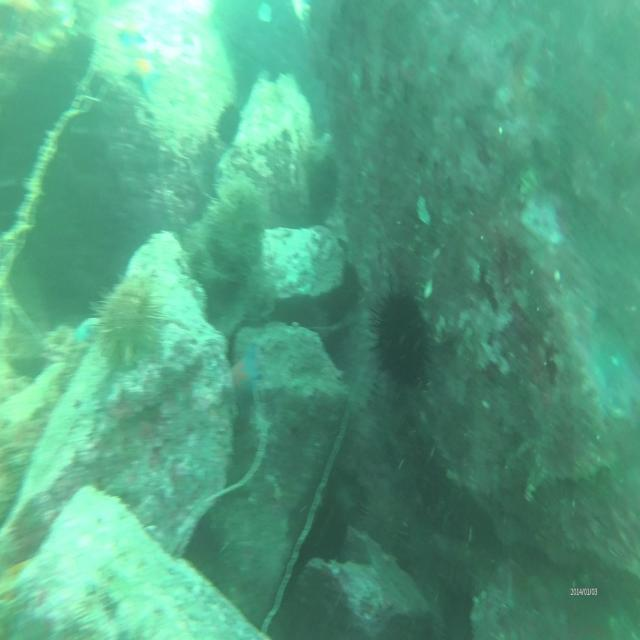echinus: (372, 284, 433, 391), (94, 278, 160, 366), (307, 154, 341, 208), (216, 98, 242, 146)
starfish: (230, 348, 260, 407), (126, 55, 160, 101), (117, 21, 147, 56), (71, 313, 100, 348)
